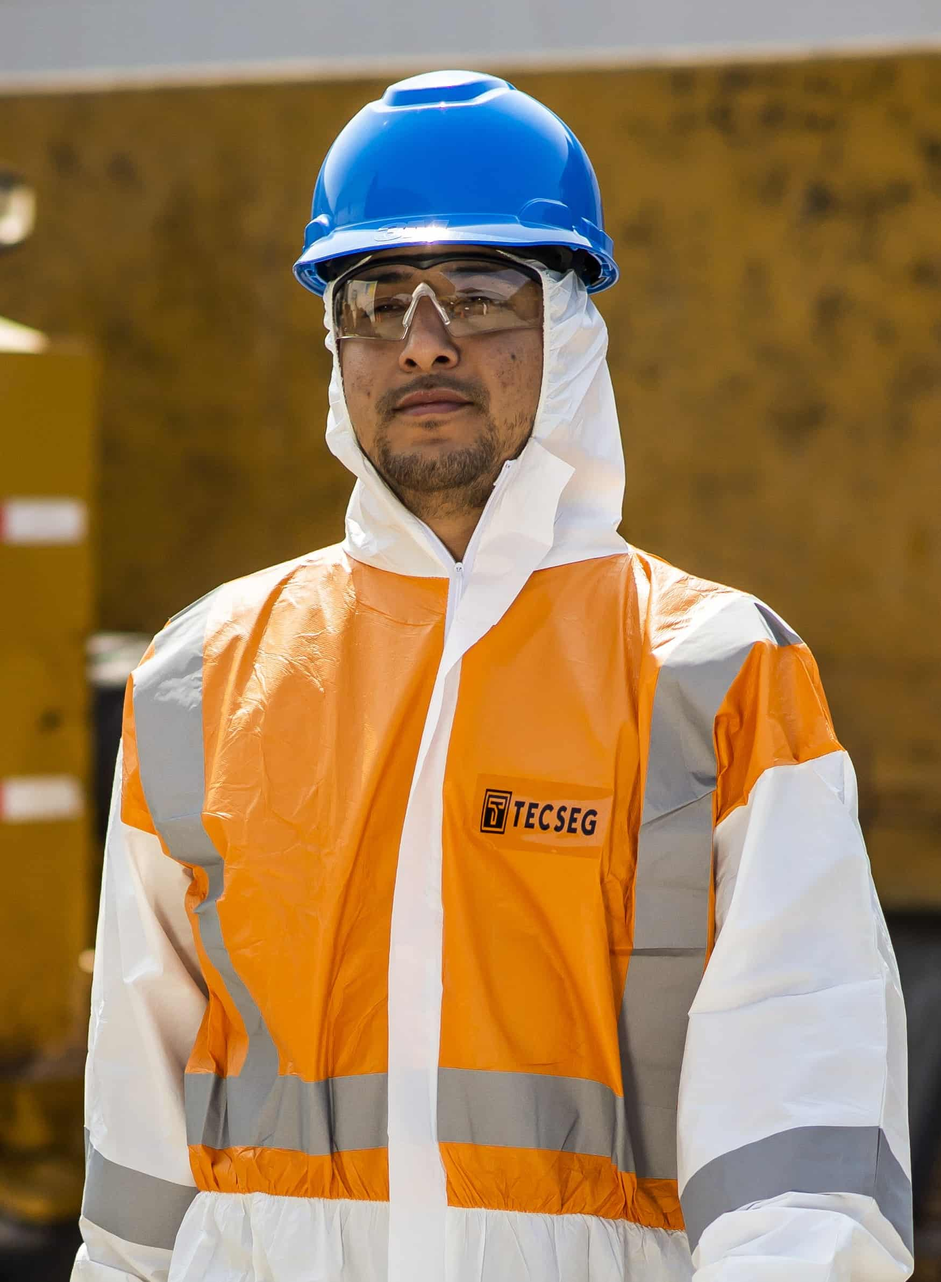Casco de seguridad: (294, 70, 617, 295)
